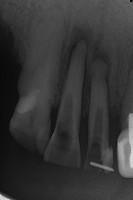Furcation Involvement: (65, 24, 93, 77), (92, 51, 111, 73)
